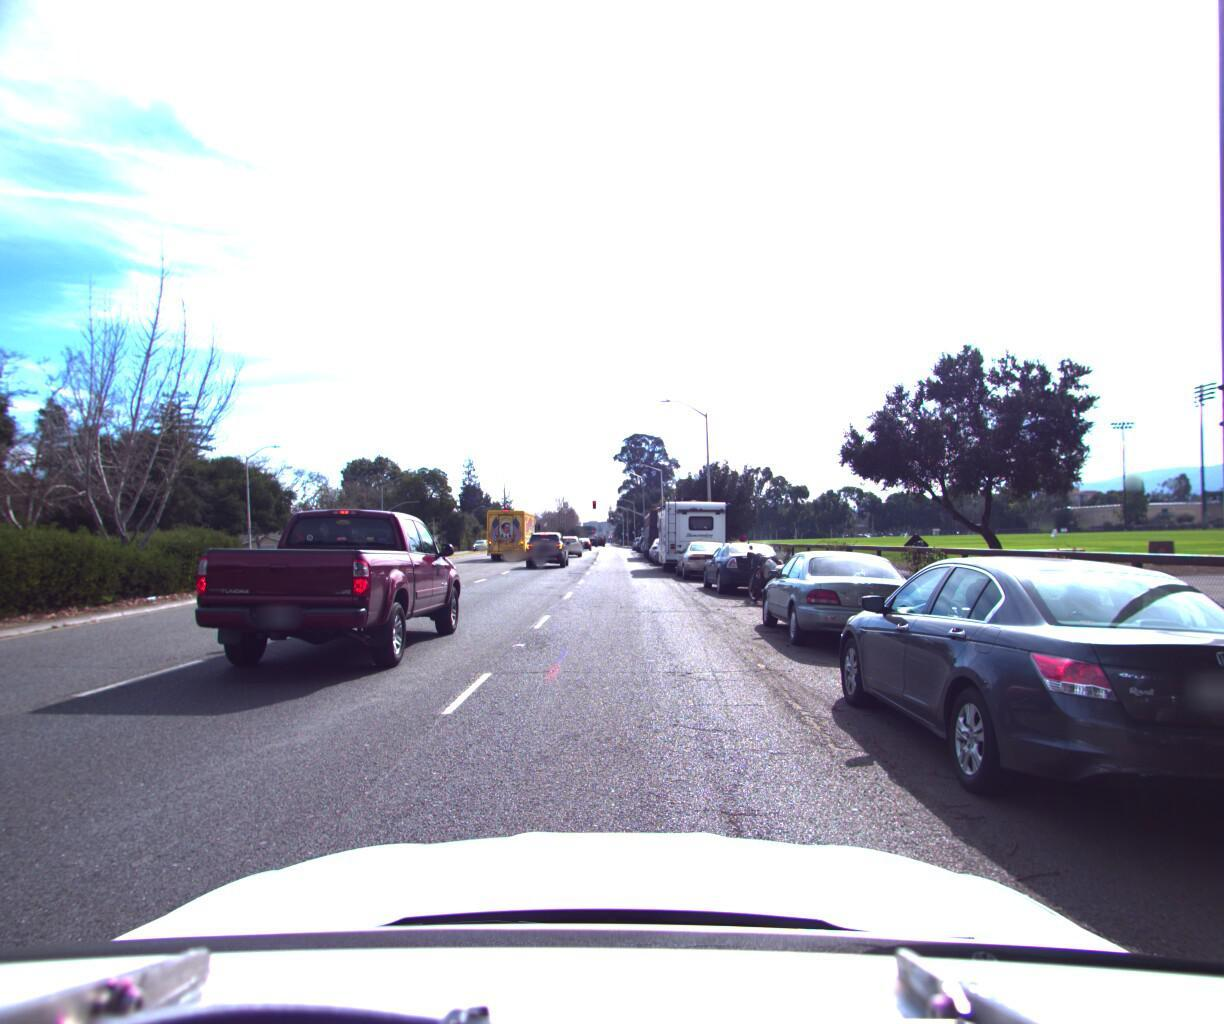bus: (639, 500, 693, 552)
car: (815, 544, 1224, 881), (168, 494, 467, 683), (752, 542, 941, 658), (694, 535, 796, 594), (675, 534, 734, 575), (522, 525, 570, 563), (557, 528, 583, 551)
motorcycle: (724, 537, 828, 600)
other_vehicle: (652, 486, 735, 568)
truck: (487, 502, 541, 555)
